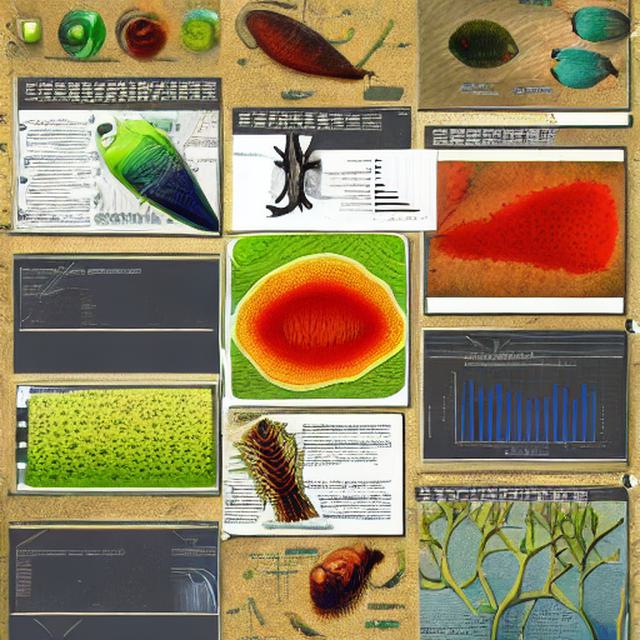Graph: (439, 360, 602, 459), (322, 150, 434, 221)
